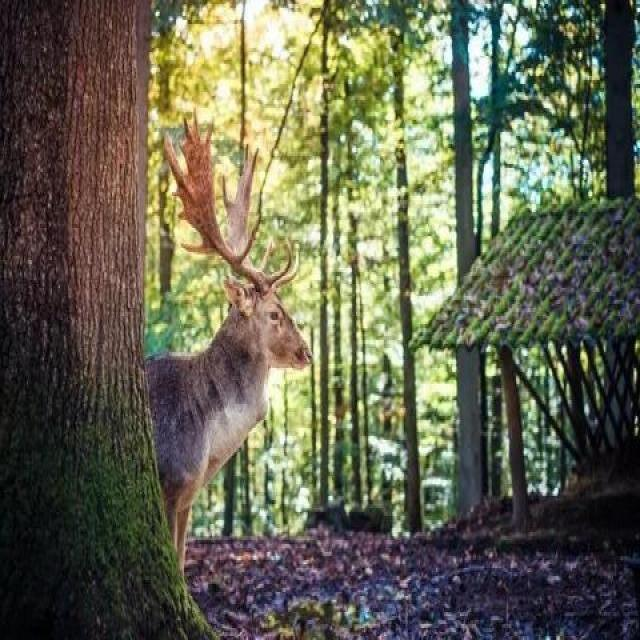deer: (65, 96, 341, 569)
